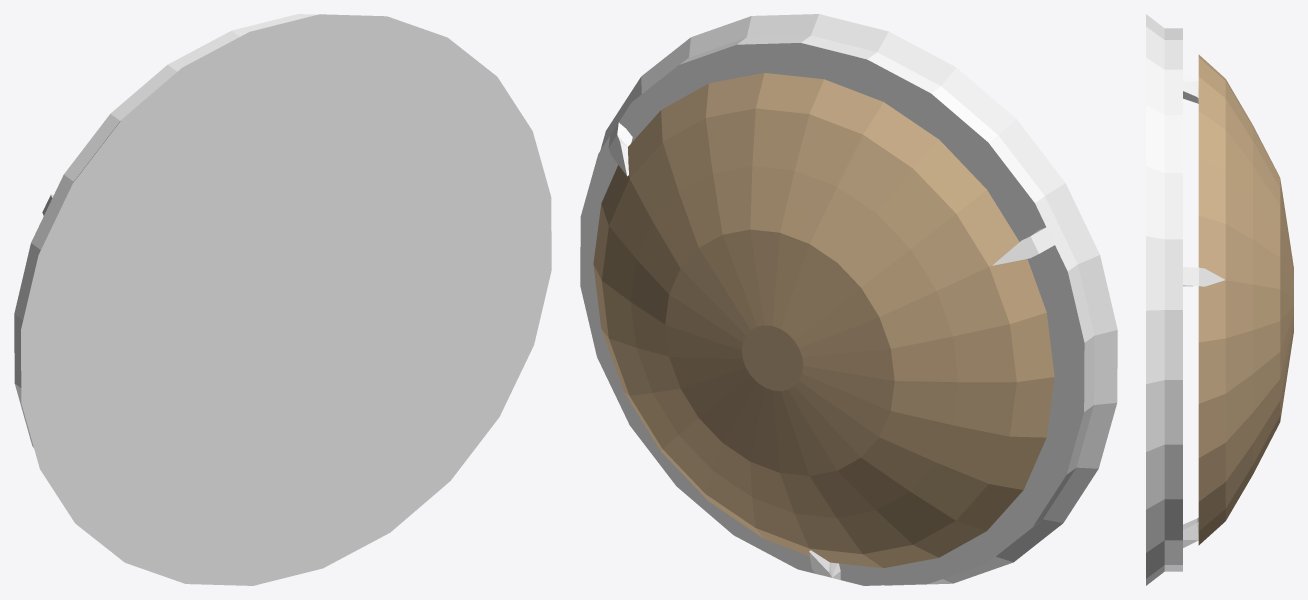
The picture shows the model from 3 angles, left to right: view 1: azimuth 30°, elevation 25°; view 2: azimuth 150°, elevation 25°; view 3: azimuth 270°, elevation 25°; orthographic projection. The views are drawn at different scales.
Parts seen in each view (by area): view 1: ikea ceiling lamp pult; view 2: ikea ceiling lamp pult; view 3: ikea ceiling lamp pult.
Boxes of the visible parts, x1,y1,x2,y2 form: ikea ceiling lamp pult: (14, 14, 551, 585); ikea ceiling lamp pult: (580, 14, 1117, 585); ikea ceiling lamp pult: (1146, 14, 1293, 585).
Size of the model in its own units: 12.11 by 12.11 by 3.15.
